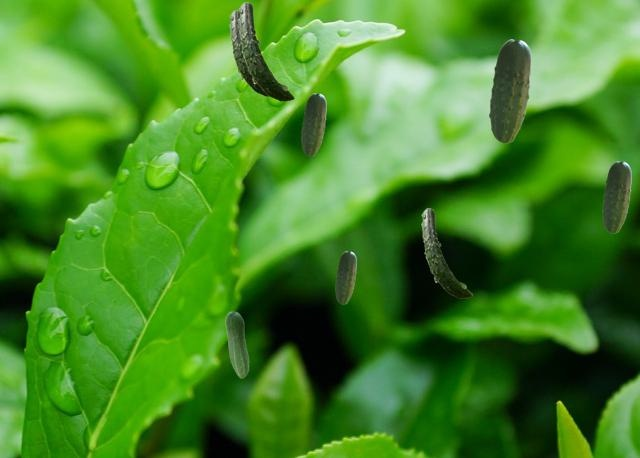cucumber: (238, 2, 293, 100), (421, 208, 471, 297), (489, 39, 530, 142), (229, 10, 266, 95), (602, 161, 630, 232), (225, 311, 248, 377), (301, 93, 325, 155), (335, 251, 355, 303)
